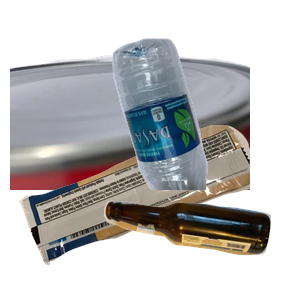glass: (101, 198, 300, 300)
metal: (10, 52, 250, 232)
plastic: (110, 36, 300, 216)
trash: (17, 123, 257, 300)
